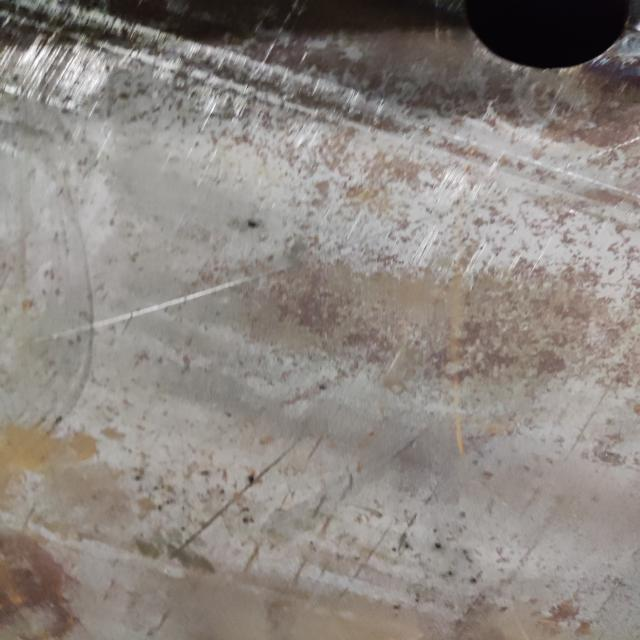seam: (405, 0, 640, 94)
